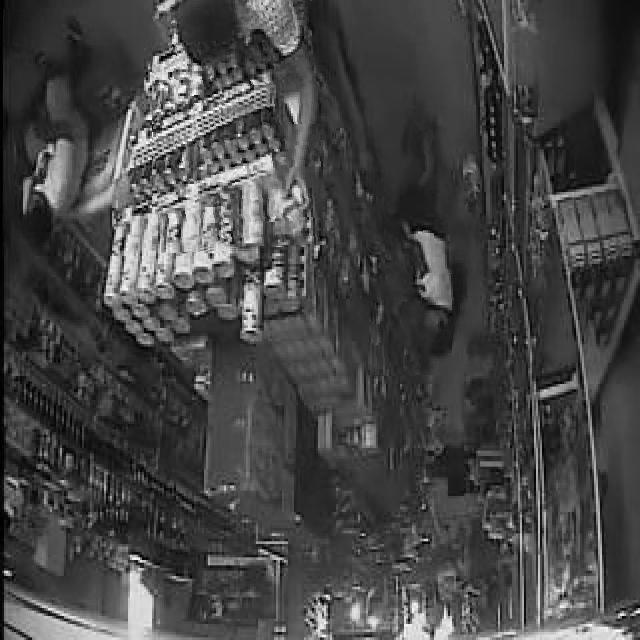Normal: (152, 0, 337, 252), (366, 105, 476, 375), (3, 8, 100, 281)
